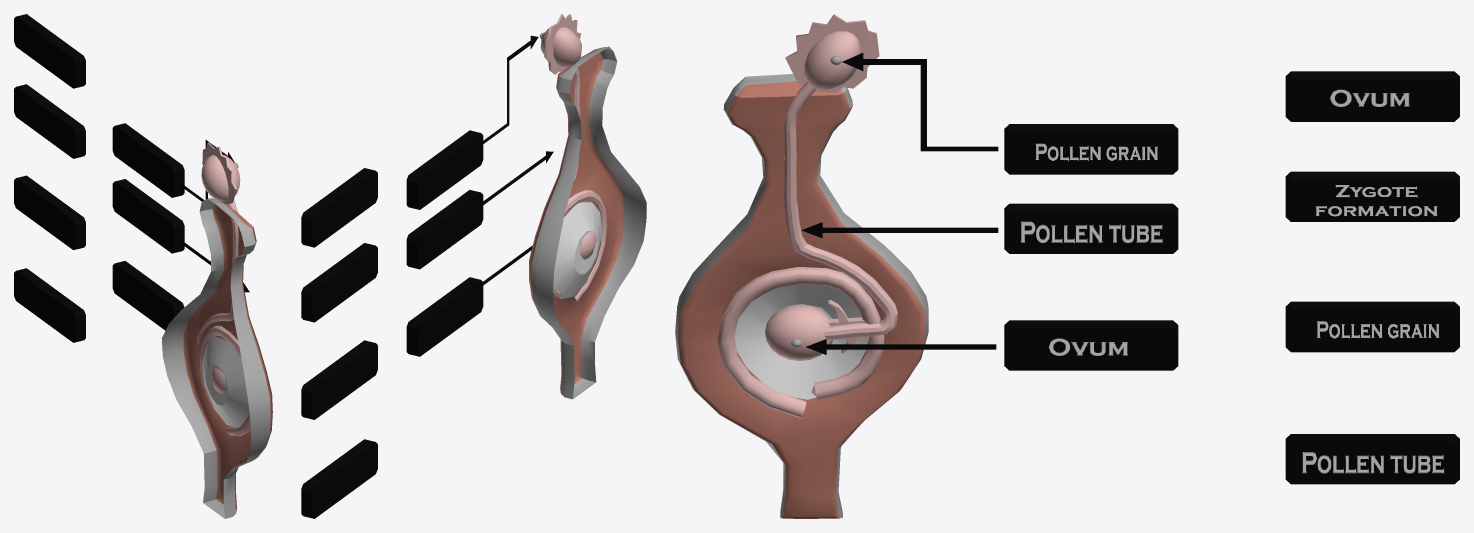
File: Level_6_A.fbx
The picture shows the model from 3 angles, left to right: view 1: azimuth 30°, elevation 25°; view 2: azimuth 150°, elevation 25°; view 3: azimuth 270°, elevation 25°; orthographic projection. The views are drawn at different scales.
Parts seen in each view (by area): view 1: Flower, pCube3 (×2), pCube2 (×2), pCube5 (×2), pCube4; view 2: Flower, pCube3 (×2), pCube2 (×2), pCube5 (×2), pCube4, polySurface8; view 3: Flower, pCube2 (×2), pCube3 (×2), pCube5 (×2), pCube4, polySurface8, polySurface6, polySurface10.
Boxes of the visible parts, <box> form: Flower: <box>161,142,272,518</box>; pCube3 (×2): <box>14,179,184,342</box>; pCube2 (×2): <box>14,123,184,249</box>; pCube5 (×2): <box>14,14,184,330</box>; pCube4: <box>14,84,85,158</box>; Flower: <box>529,14,646,399</box>; pCube3 (×2): <box>301,190,483,518</box>; pCube2 (×2): <box>301,130,483,419</box>; pCube5 (×2): <box>301,168,483,356</box>; pCube4: <box>301,243,377,322</box>; polySurface8: <box>483,35,538,143</box>; Flower: <box>675,14,928,518</box>; pCube2 (×2): <box>1004,124,1459,352</box>; pCube3 (×2): <box>1004,203,1459,484</box>; pCube5 (×2): <box>1004,71,1459,370</box>; pCube4: <box>1285,171,1459,221</box>; polySurface8: <box>842,53,998,151</box>; polySurface6: <box>801,222,998,238</box>; polySurface10: <box>806,339,996,354</box>.
Bounding box in the file's own units: 17.59 × 119 × 167.
6 materials, 1 textured.
